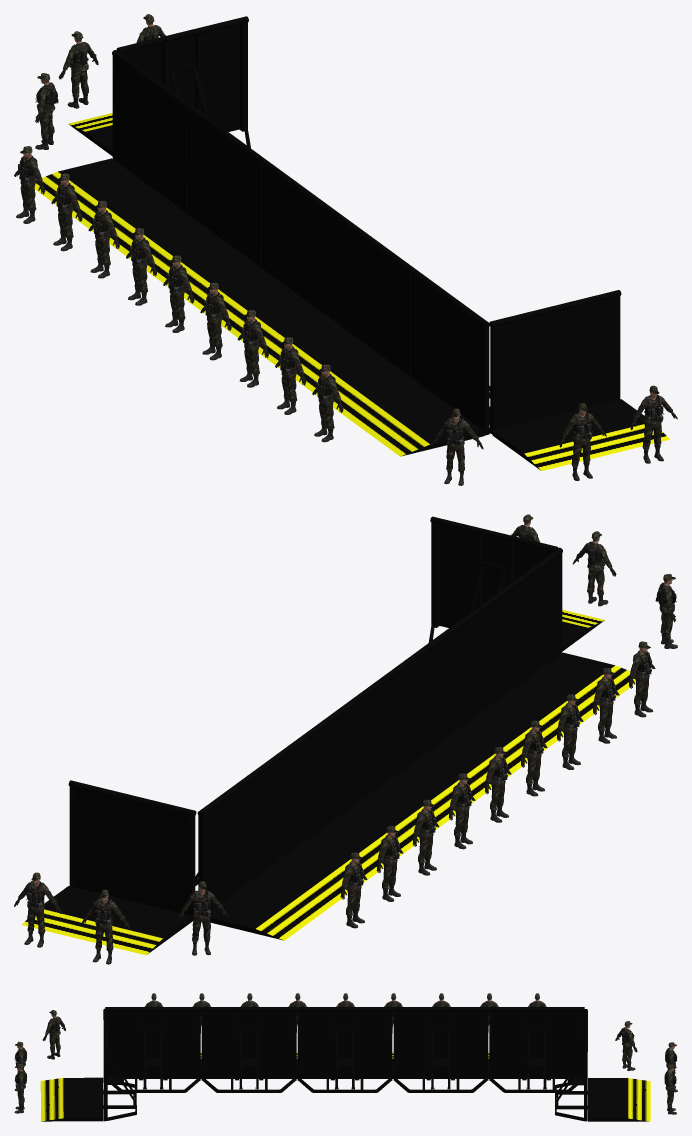
File: barricade_east.glb
3 renders of one model, top to bottom at view 1: azimuth 30°, elevation 25°; view 2: azimuth 150°, elevation 25°; view 3: azimuth 270°, elevation 25°, orthographic. The views are drawn at different scales.
Visible parts, largest first — view 1: Plane_0.006, Plane_0.004, Plane_0.002, Plane_0.001, Plane_0.003, Plane_0, Plane_0.005, Object_9.010, Object_9.009, Object_9.011, Object_9.013, Object_9.008 (+9 smaller); view 2: Plane_0.005, Plane_0.002, Plane_0.001, Plane_0, Plane_0.003, Plane_0.004, Plane_0.006, Object_9.014, Object_9.012, Object_9.013, Object_9.010, Object_9 (+9 smaller); view 3: Plane_0, Plane_0.001, Plane_0.003, Plane_0.002, Plane_0.004, Plane_0.006, Plane_0.005, Object_9.011, Object_9.012, Object_9.014, Object_9.009, Object_9.013 (+1 smaller).
Part boxes in pixels (x1=…): Plane_0.006: x1=489, y1=290, x2=669, y2=470; Plane_0.004: x1=333, y1=268, x2=490, y2=456; Plane_0.002: x1=34, y1=50, x2=190, y2=234; Plane_0.001: x1=109, y1=104, x2=264, y2=286; Plane_0.003: x1=258, y1=213, x2=414, y2=398; Plane_0: x1=184, y1=159, x2=339, y2=343; Plane_0.005: x1=68, y1=16, x2=250, y2=156; Object_9.010: x1=559, y1=403, x2=606, y2=480; Object_9.009: x1=630, y1=385, x2=677, y2=463; Object_9.011: x1=432, y1=408, x2=483, y2=485; Object_9.013: x1=58, y1=31, x2=98, y2=108; Object_9.008: x1=275, y1=337, x2=306, y2=414; Plane_0.005: x1=22, y1=780, x2=196, y2=955; Plane_0.002: x1=195, y1=758, x2=347, y2=940; Plane_0.001: x1=271, y1=706, x2=419, y2=882; Plane_0: x1=343, y1=653, x2=491, y2=829; Plane_0.003: x1=415, y1=600, x2=563, y2=777; Plane_0.004: x1=487, y1=547, x2=635, y2=724; Plane_0.006: x1=428, y1=516, x2=604, y2=651; Object_9.014: x1=14, y1=872, x2=61, y2=947; Object_9.012: x1=178, y1=881, x2=228, y2=955; Object_9.013: x1=81, y1=889, x2=130, y2=964; Object_9.010: x1=572, y1=531, x2=616, y2=606; Object_9: x1=340, y1=852, x2=367, y2=928; Plane_0: x1=297, y1=1007, x2=392, y2=1092; Plane_0.001: x1=393, y1=1007, x2=488, y2=1092; Plane_0.003: x1=201, y1=1007, x2=296, y2=1092; Plane_0.002: x1=488, y1=1007, x2=584, y2=1092; Plane_0.004: x1=105, y1=1007, x2=201, y2=1092; Plane_0.006: x1=40, y1=1008, x2=136, y2=1121; Plane_0.005: x1=555, y1=1009, x2=650, y2=1121; Object_9.011: x1=42, y1=1010, x2=65, y2=1059; Object_9.012: x1=615, y1=1021, x2=637, y2=1070; Object_9.014: x1=664, y1=1064, x2=676, y2=1114; Object_9.009: x1=14, y1=1064, x2=26, y2=1113; Object_9.013: x1=665, y1=1042, x2=677, y2=1092.
Size of the model in its own units: 6.17 by 2.51 by 20.78.
141 materials, 134 textured.
